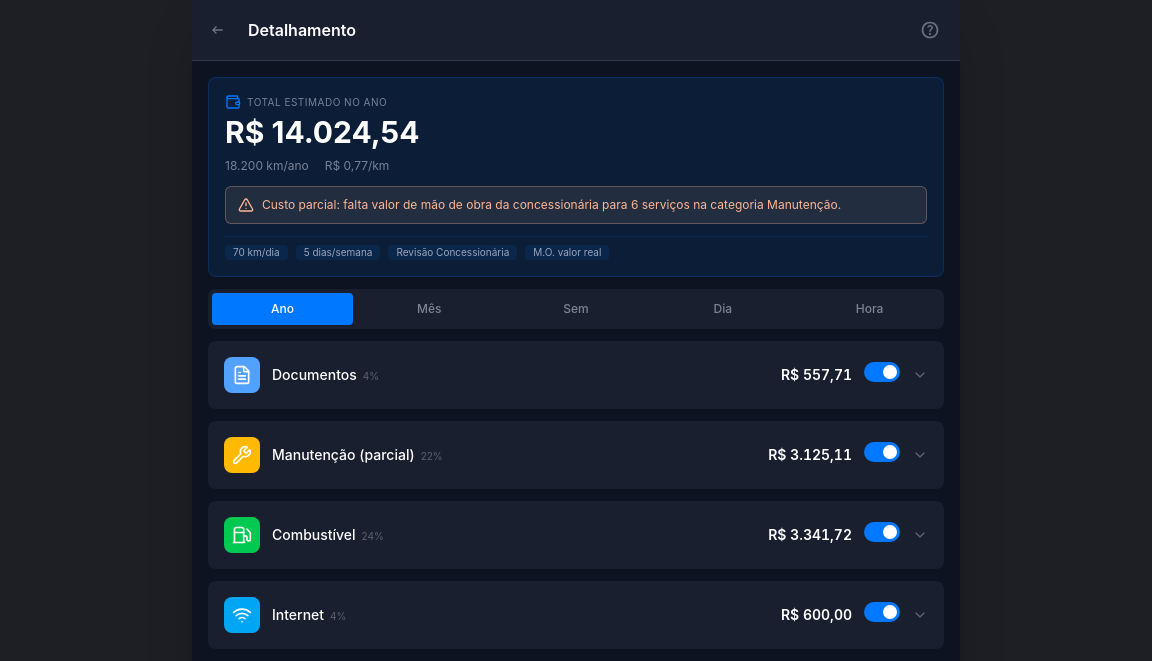
Test case: App - smoke UI › o chip de M.O. abre o popup de estimativa (Segmentado Padrão / Estimado)
Expected: the text "Total estimado no ano" is shown, [225,94,387,110]
Click the button with aria-label "Editar modo de estimativa de mão de obra" at point(567, 252), box [525,244,609,260]
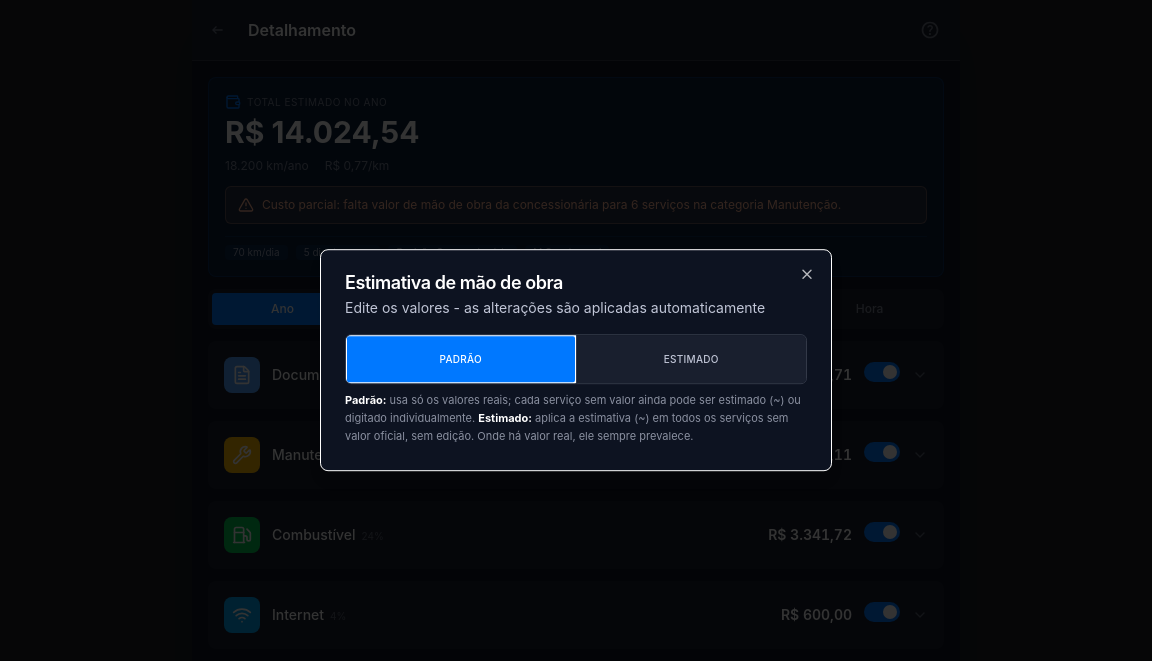
Now the button "Padrão" is shown, box [346,335,576,383]
Now the button "Estimado" is shown, box [576,335,806,383]
